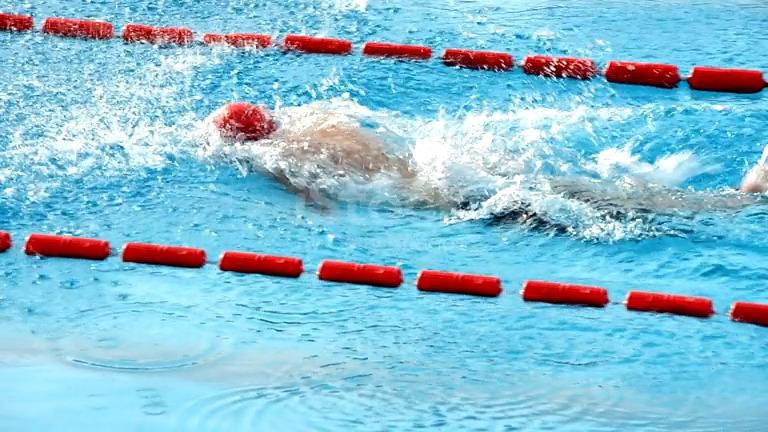Swimming: (197, 96, 765, 242)
